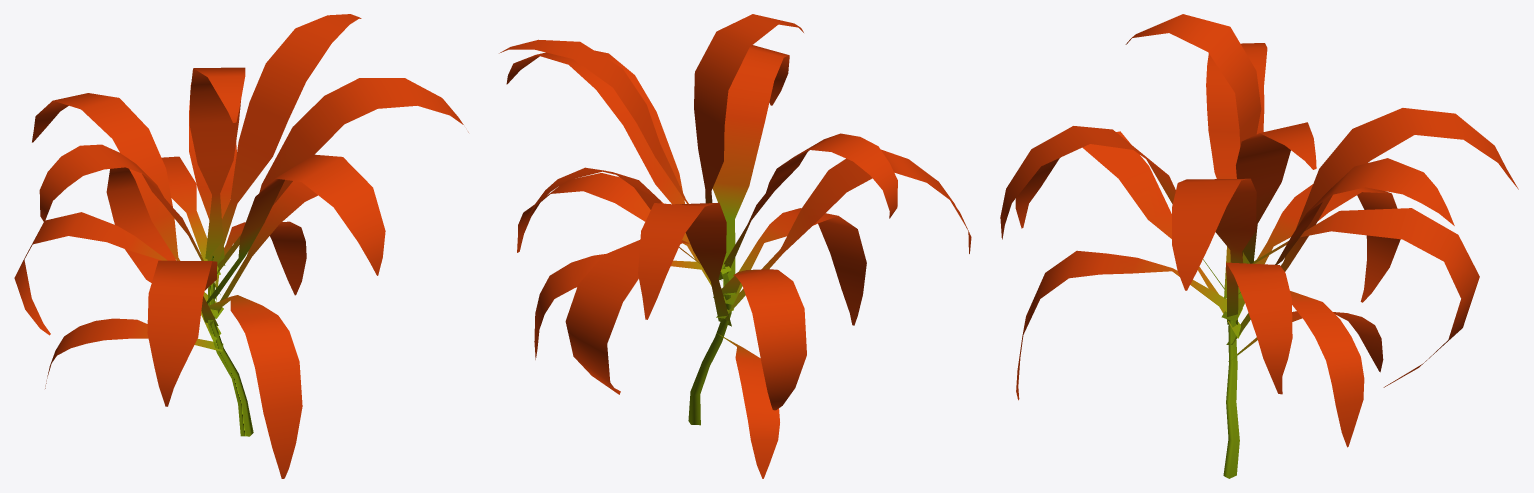
Rendered from Pink Cordyline_LOD2_Var1_sfhhN.fbx.
3 renders of one model, left to right at view 1: azimuth 30°, elevation 25°; view 2: azimuth 150°, elevation 25°; view 3: azimuth 270°, elevation 25°, orthographic. The views are drawn at different scales.
Parts seen in each view (by area): view 1: _2675_Var1_LOD2; view 2: _2675_Var1_LOD2; view 3: _2675_Var1_LOD2.
Boxes of the visible parts, <box> form: _2675_Var1_LOD2: <box>14,14,468,478</box>; _2675_Var1_LOD2: <box>499,14,971,478</box>; _2675_Var1_LOD2: <box>1000,14,1518,478</box>.
Size of the model in its own units: 79.12 by 72.87 by 79.81.
